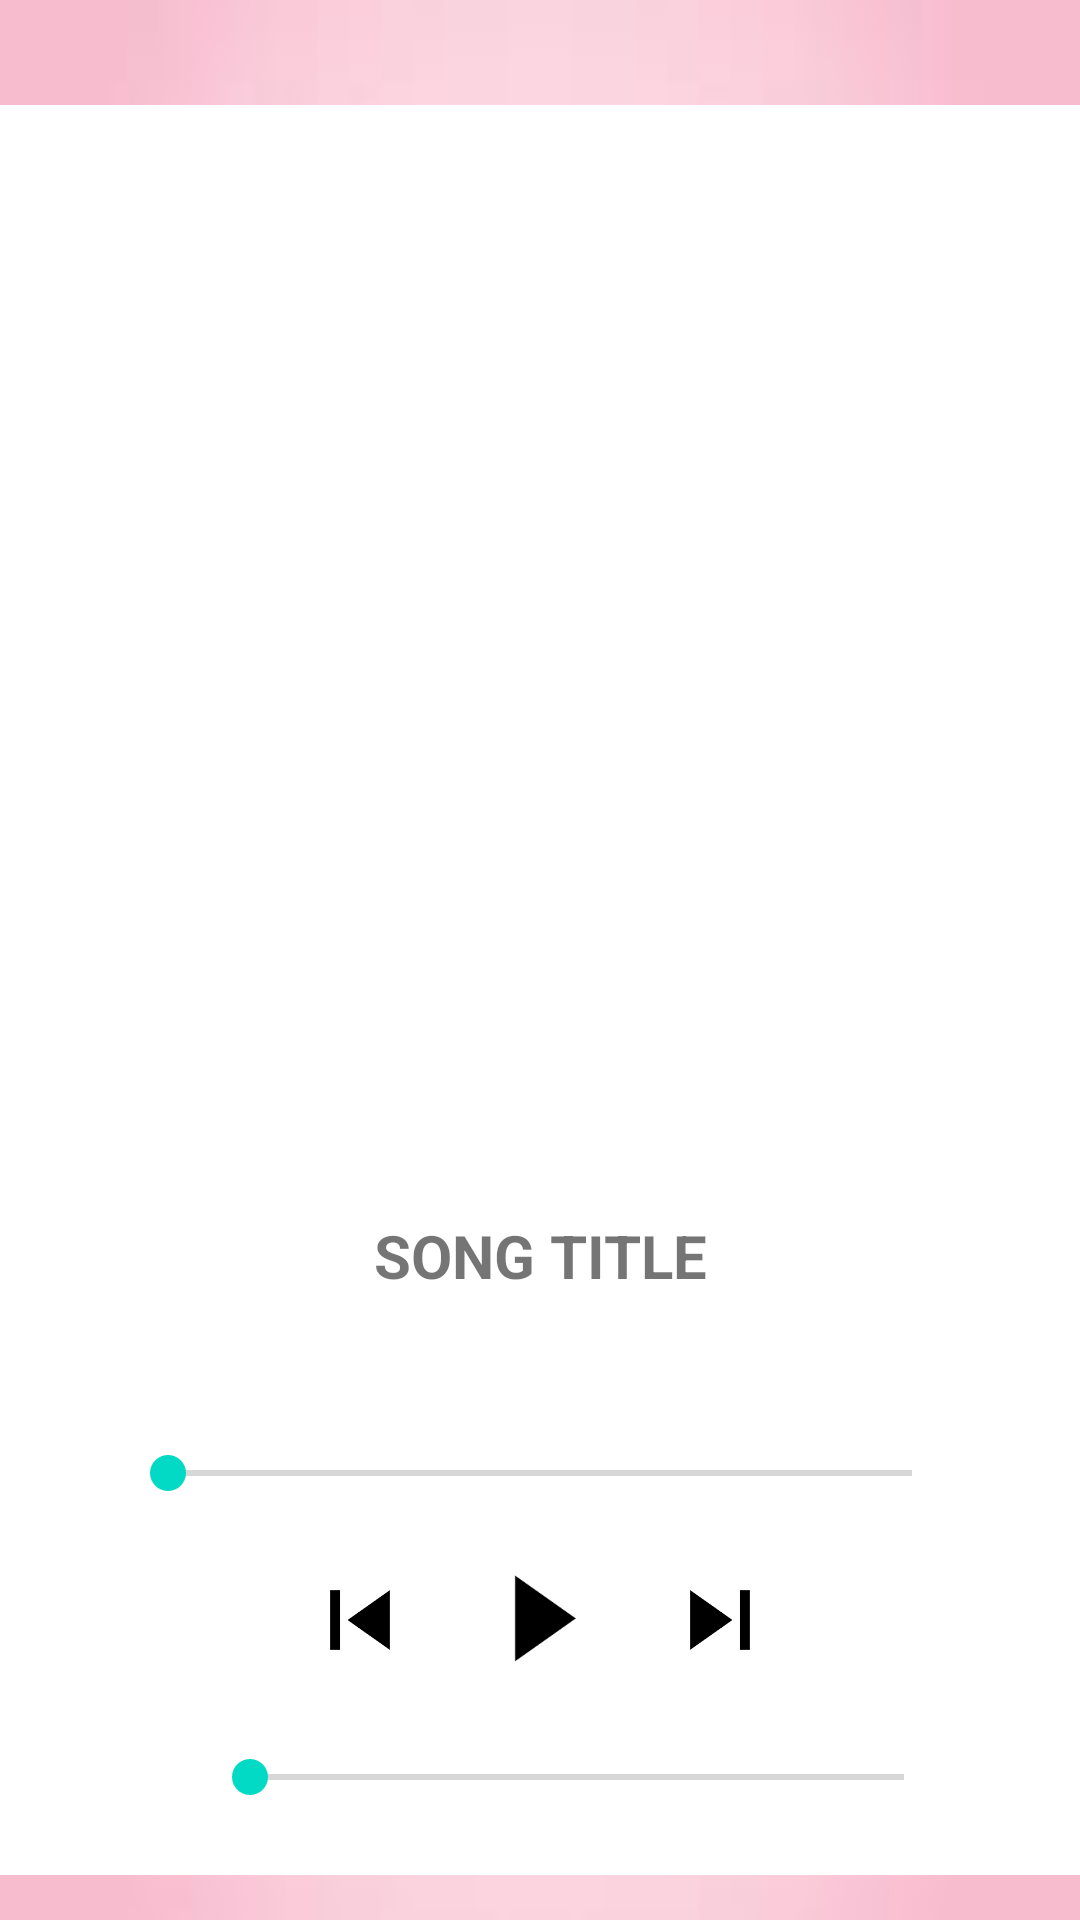

Icons on this 1080x1920 Android screen, each with its box as (x1, y1, x2, y2):
play: (515, 1575, 576, 1662)
prev: (330, 1590, 390, 1650)
